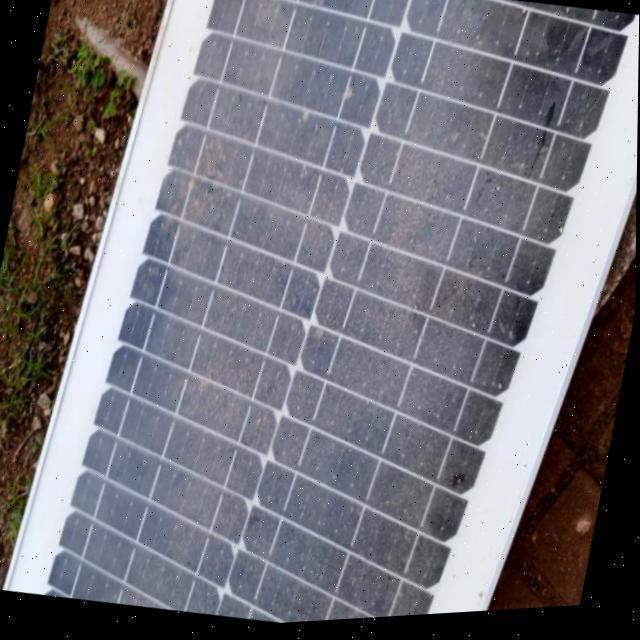Anomaly Solar Panel: (44, 0, 580, 638)
Surface Contaminant: (73, 0, 567, 626)
